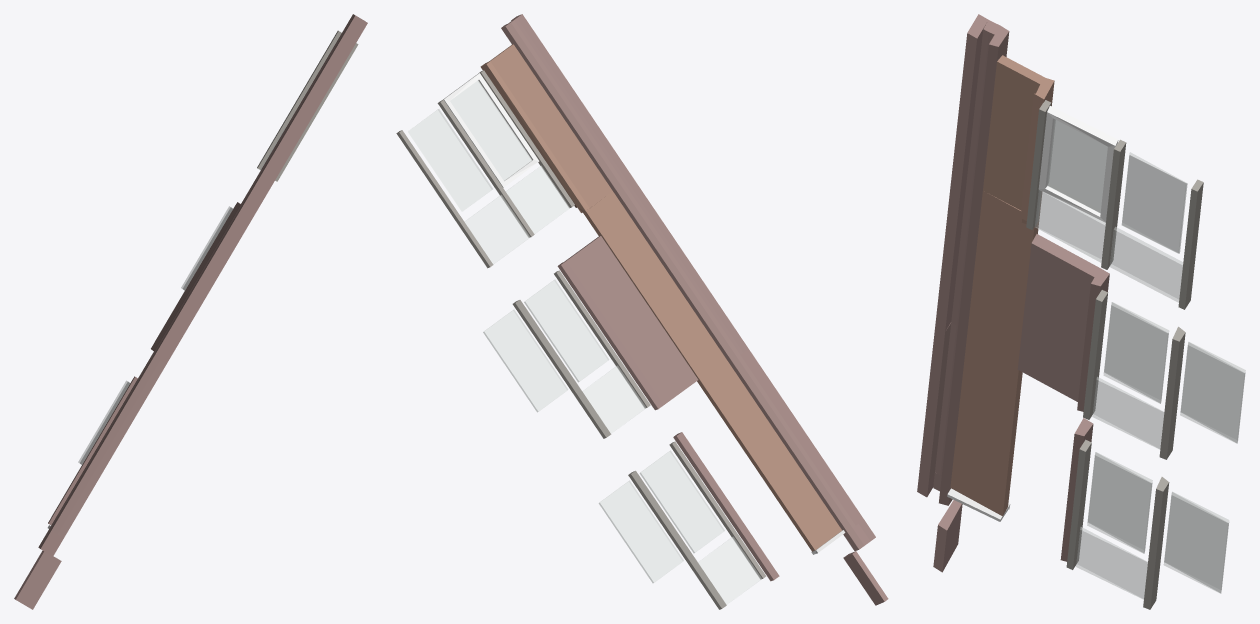
The picture shows the model from 3 angles, left to right: view 1: azimuth 30°, elevation 25°; view 2: azimuth 150°, elevation 25°; view 3: azimuth 270°, elevation 25°; orthographic projection. The views are drawn at different scales.
Parts seen in each view (by area): view 1: mesh; view 2: mesh; view 3: mesh.
Boxes of the visible parts, <box> form: mesh: <box>14,14,367,609</box>; mesh: <box>396,14,888,609</box>; mesh: <box>917,14,1245,609</box>.
Size of the model in its own units: 6.92 by 8.25 by 2.98.
